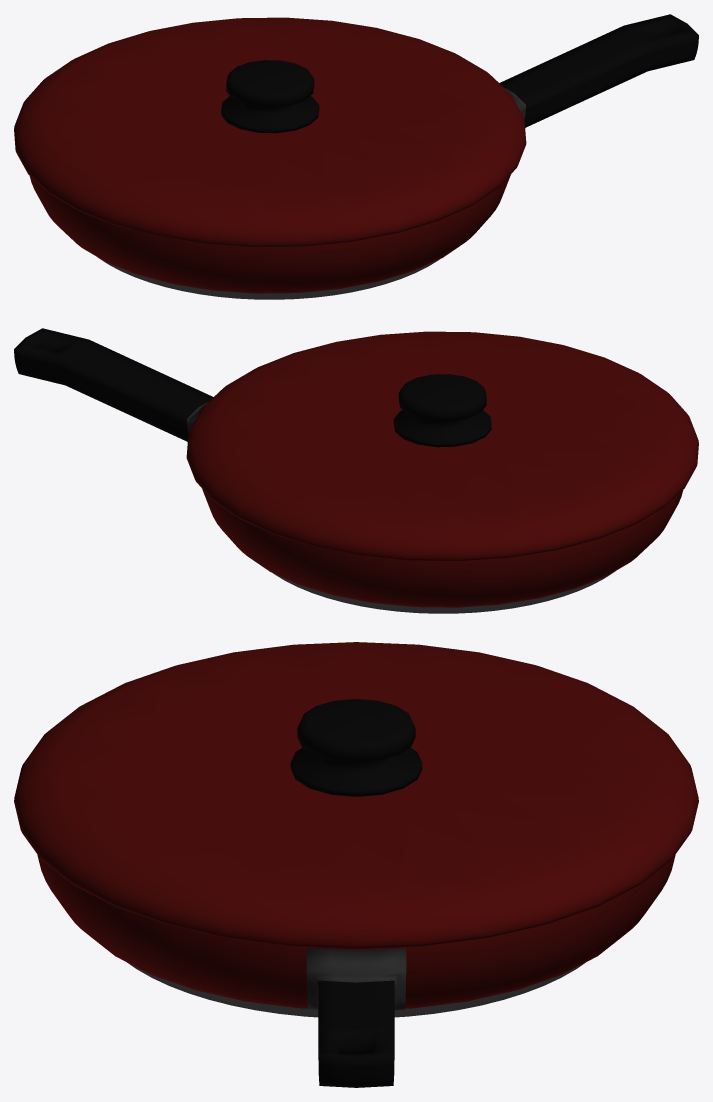
The model's file is sarten.obj.
3 renders of one model, top to bottom at view 1: azimuth 30°, elevation 25°; view 2: azimuth 150°, elevation 25°; view 3: azimuth 270°, elevation 25°, orthographic. The views are drawn at different scales.
Visible parts, largest first — view 1: Circle.001_Circle.002; view 2: Circle.001_Circle.002; view 3: Circle.001_Circle.002.
Part boxes in pixels (x1,y1,x2,y2): Circle.001_Circle.002: [14, 14, 698, 299]; Circle.001_Circle.002: [14, 328, 698, 613]; Circle.001_Circle.002: [14, 642, 698, 1087].
Size of the model in its own units: 4.14 by 0.872 by 2.88.
